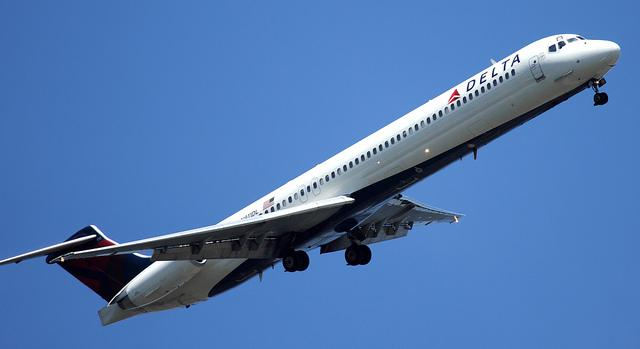airplane: (1, 32, 622, 328)
